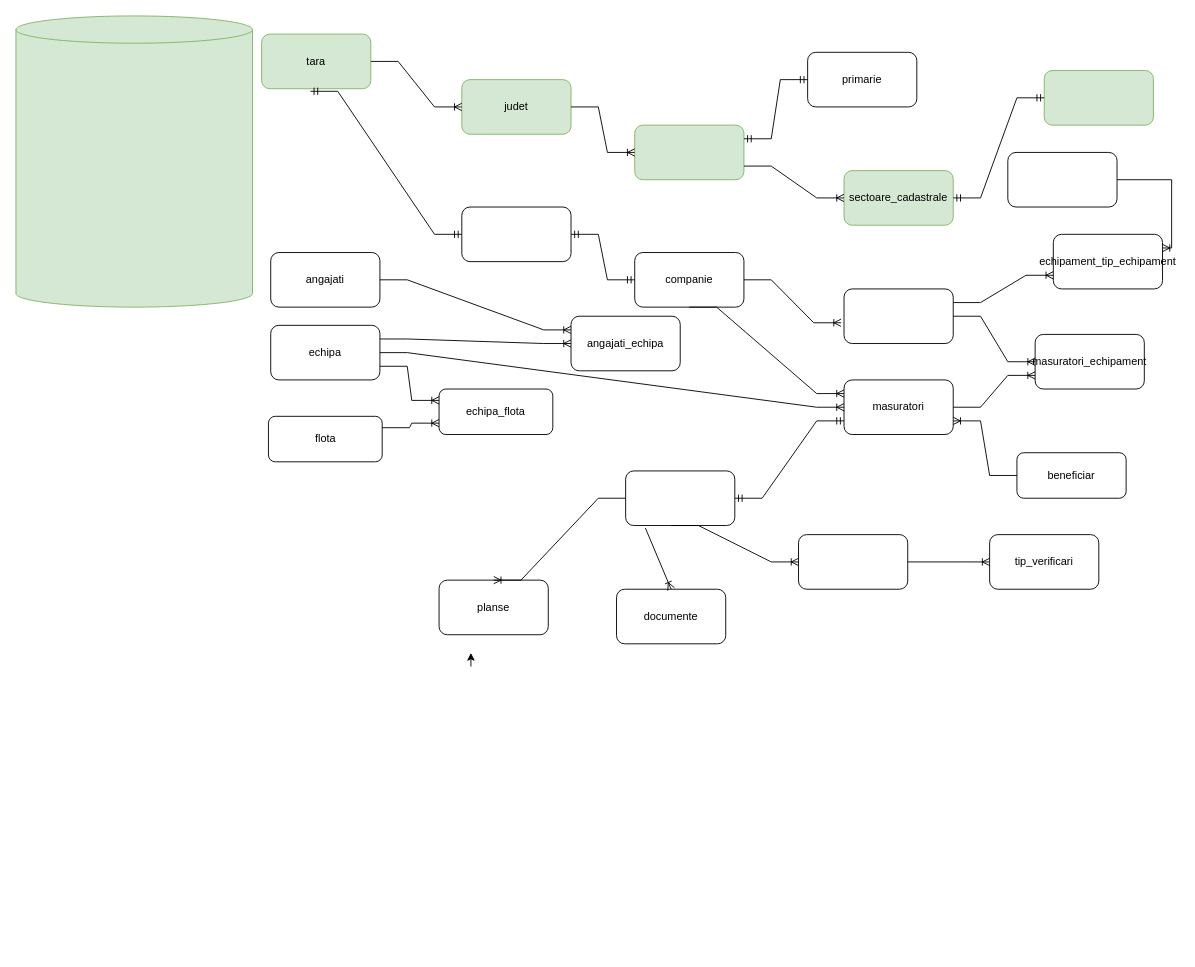
The diagram is 1195 pixels wide and 967 high, and some of its shapes have lost their labels. The box of each missing label's shape, as (x1, y1, x2, y2) in pixels:
ANAF: (461, 206, 571, 262)
dosar: (625, 470, 735, 526)
echipament: (843, 288, 953, 344)
Lucrari Cadastru GIS: (15, 15, 253, 307)
retea_sprijin: (1043, 70, 1153, 125)
tip_echipament: (1007, 152, 1117, 207)
UAT: (634, 124, 744, 180)
verificari: (798, 534, 908, 589)
